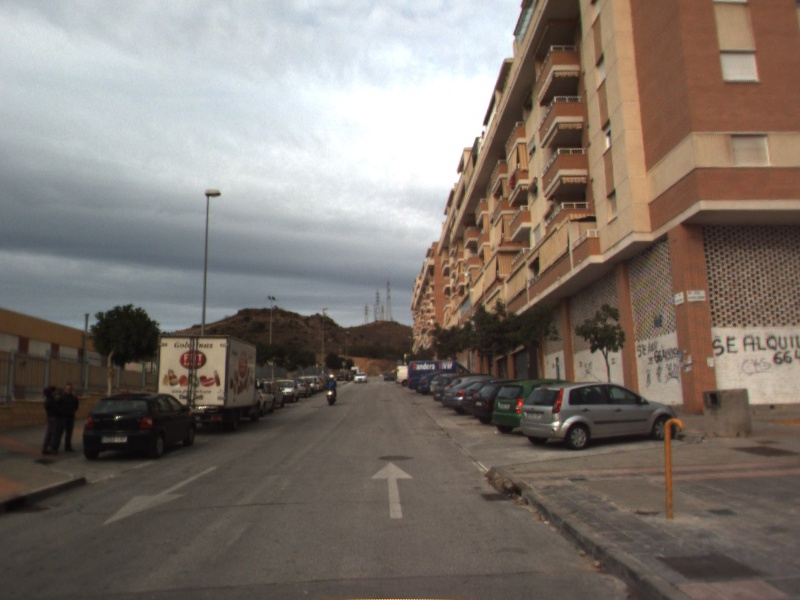STRAIGHT: (369, 459, 416, 521)
